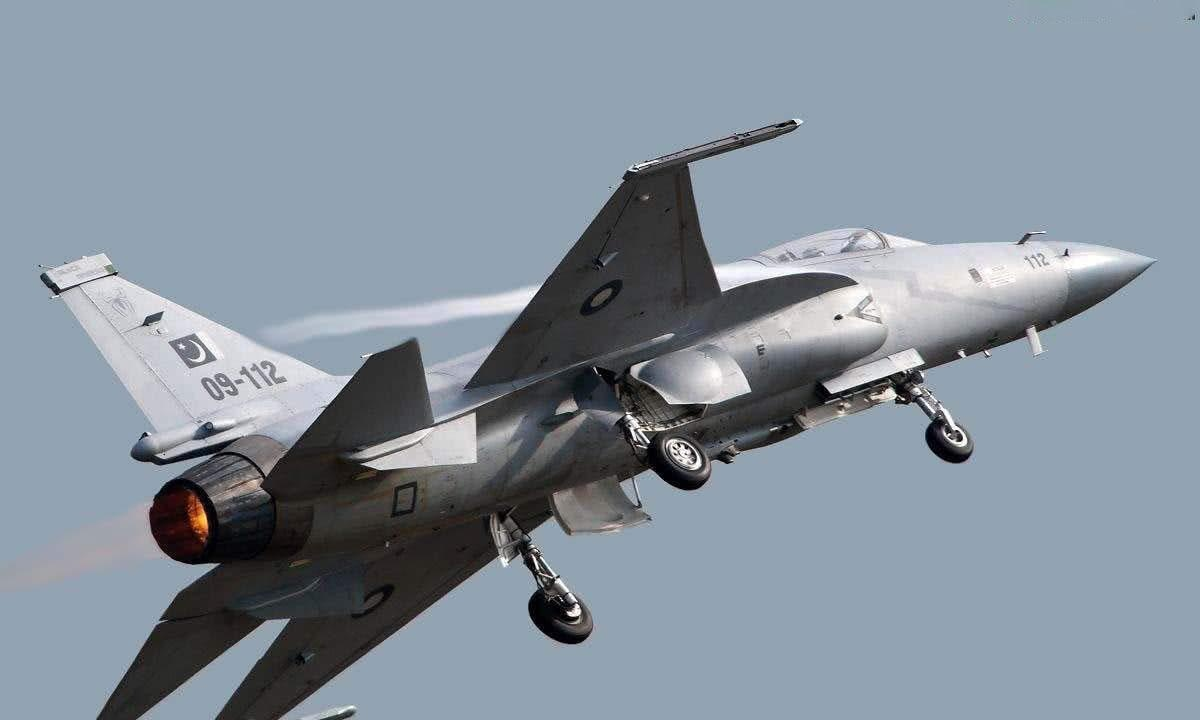airplane: (37, 106, 1155, 705)
